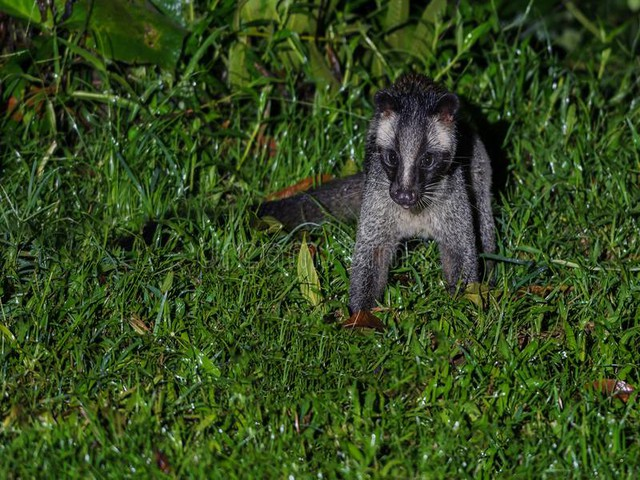civet: (260, 65, 513, 314)
